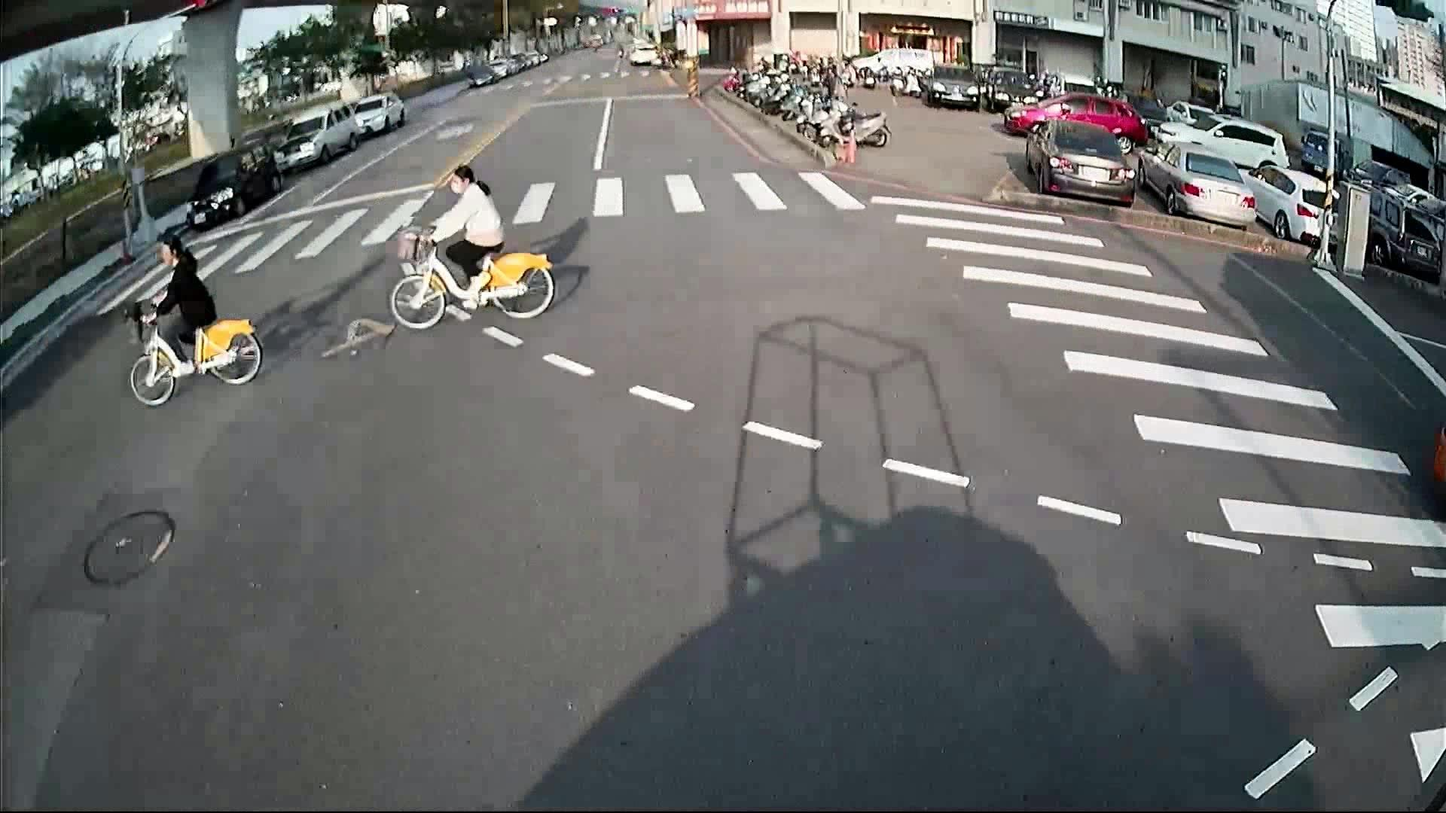person: (414, 160, 504, 306), (136, 228, 221, 379)
